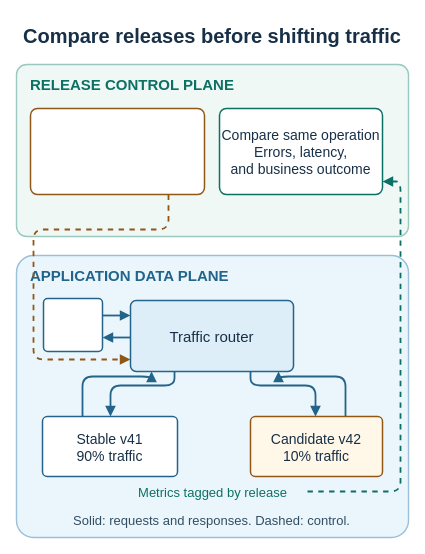
Image size: 425x554. Some labels were removed from this diagram. Here are the shapes that lost their labels. From the top down, the centre of each, then its label:
point 117,151: Approve weight changes Stop or restore stable
point 72,324: Client
